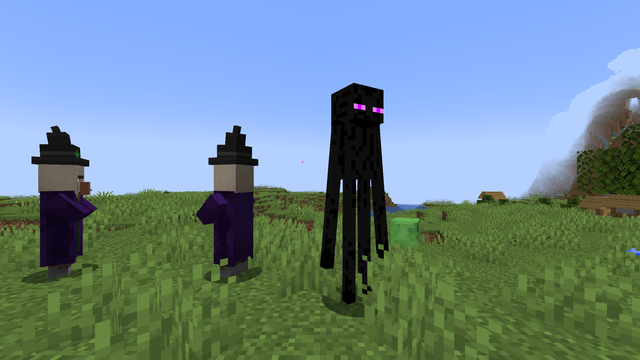endermens: (333, 77, 383, 309)
slimes: (389, 216, 423, 246)
sorcieres: (26, 159, 94, 278), (209, 159, 254, 278)
